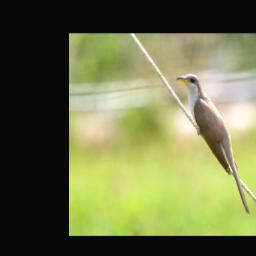Cuckoo: (175, 73, 252, 219)
